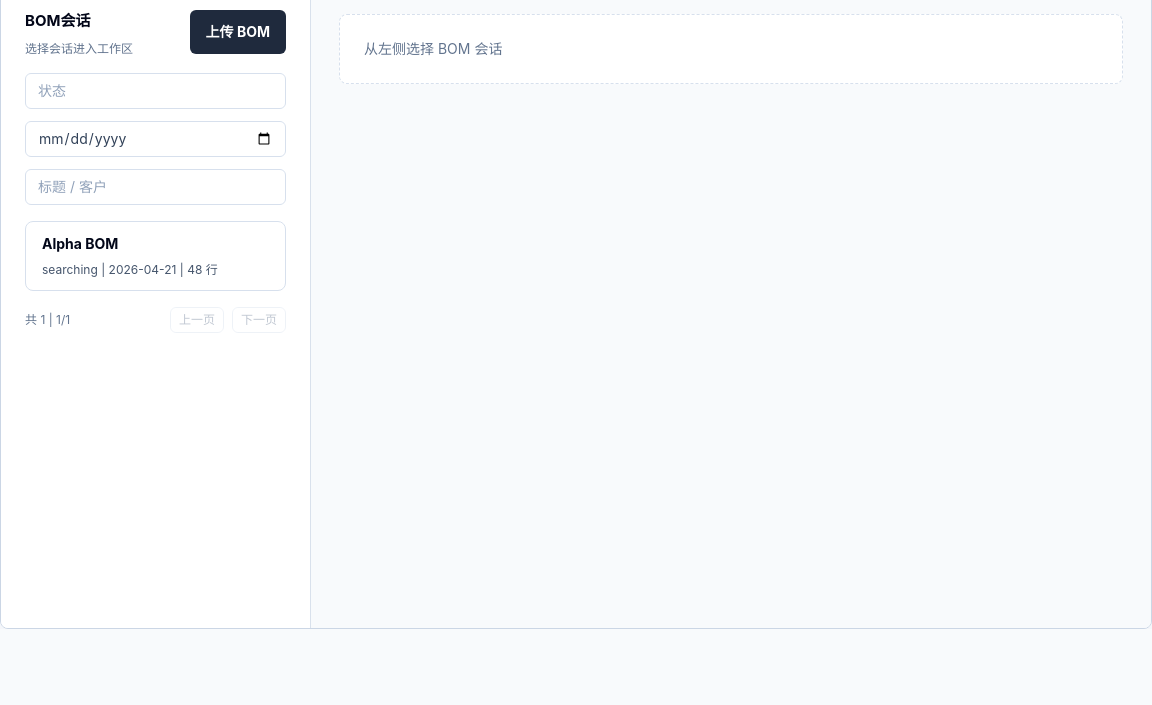
Test case: BomWorkbenchPage › opens search task tools inside the selected session
Click the button "Alpha BOM searching | 2026-04-21 | 48 行". click: [80, 243]
box: x1=25 y1=220 x2=286 y2=290
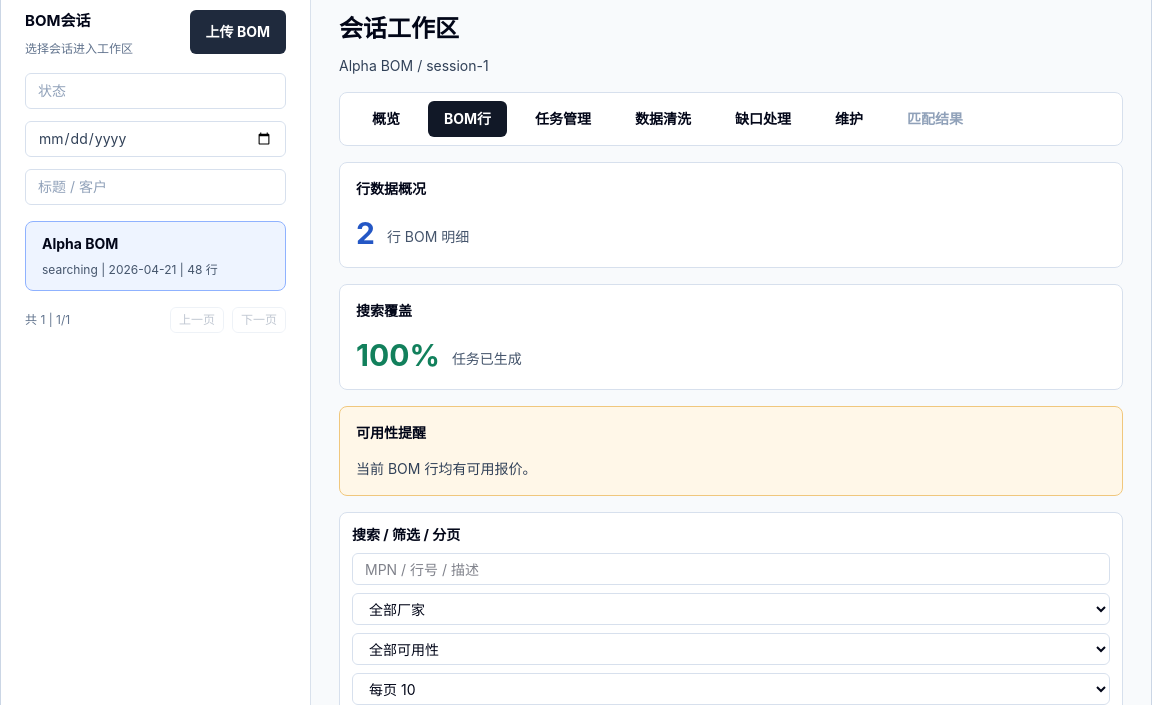
Click the 3rd tab. click: [563, 119]
box: x1=519 y1=101 x2=607 y2=137
(page scrolled)
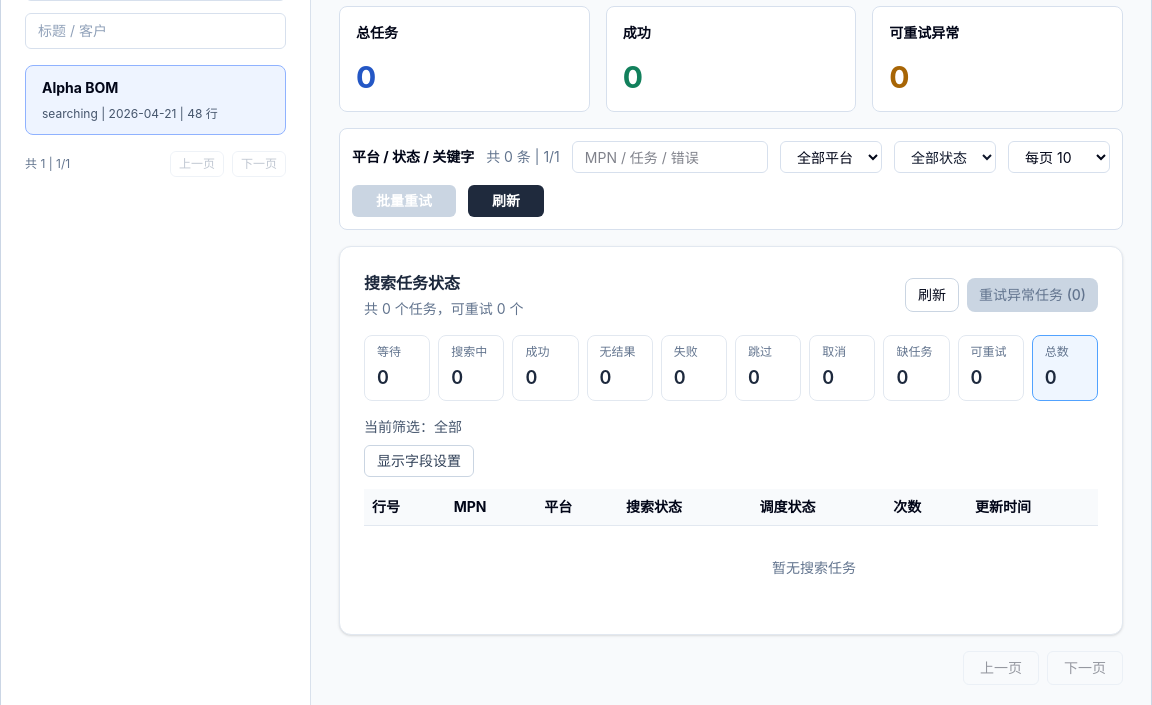
Expected: the element with test id "session-search-tasks-panel" is shown
